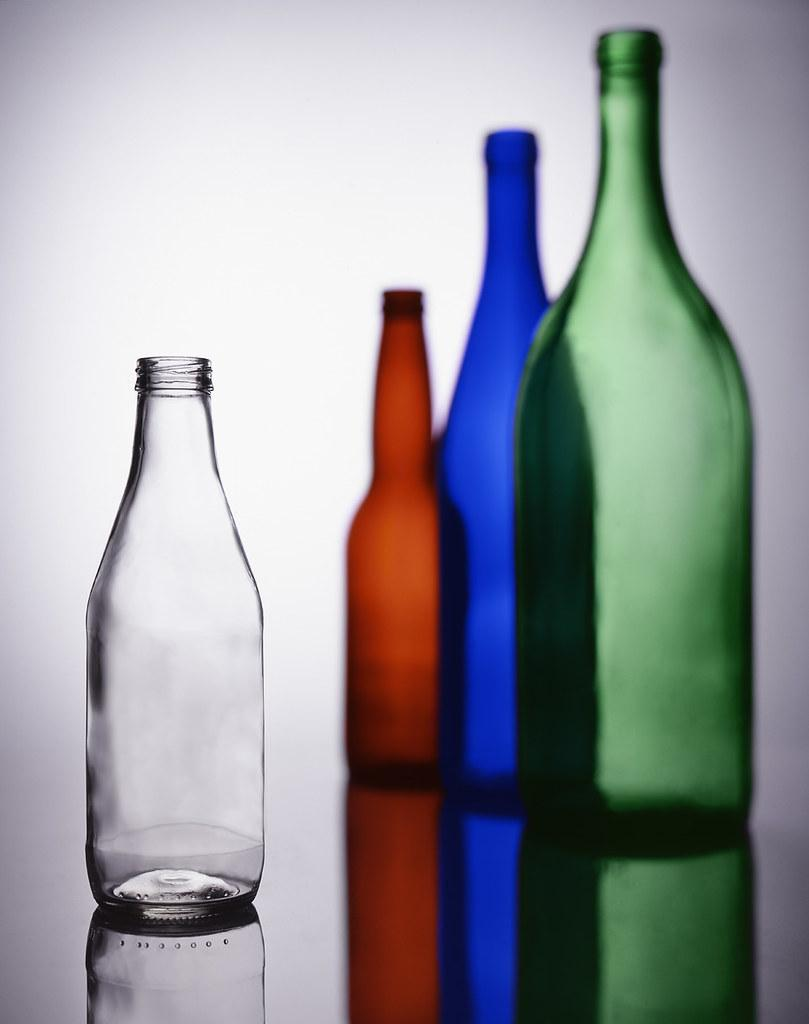bottle: (513, 28, 756, 829), (85, 355, 266, 915), (436, 128, 555, 804), (346, 288, 441, 780), (347, 785, 441, 1024), (85, 904, 267, 1024)
